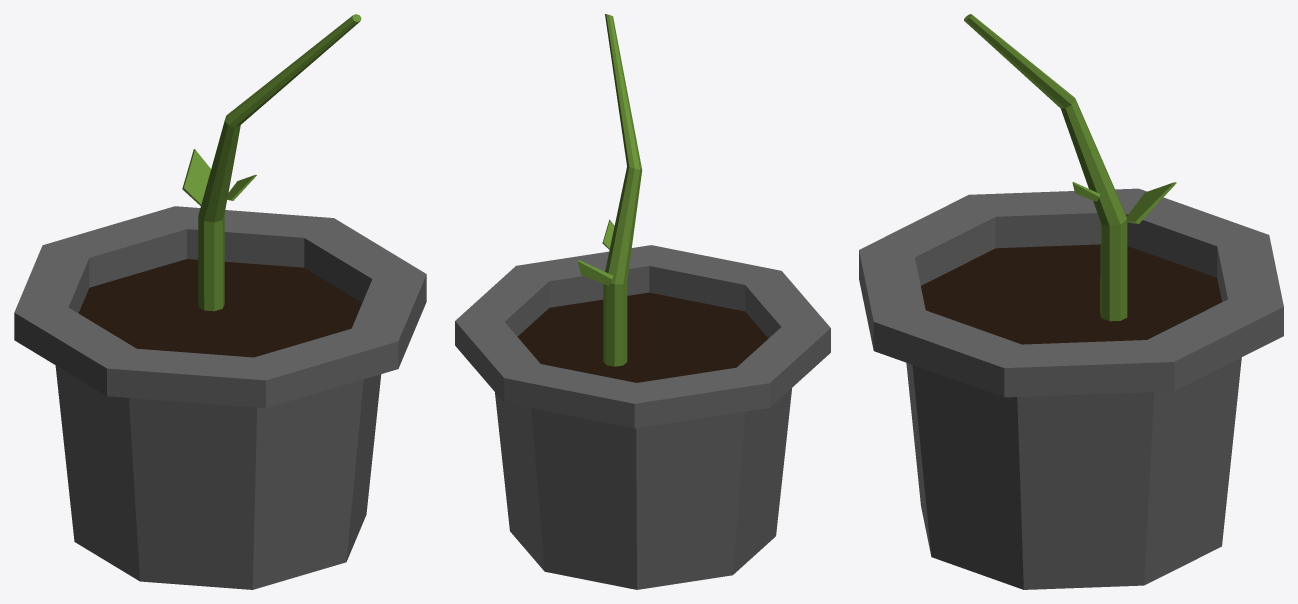
Rendered from plant_interior.glb.
3 views of the same model, side by side, from view 1: azimuth 30°, elevation 25°; view 2: azimuth 150°, elevation 25°; view 3: azimuth 270°, elevation 25° (orthographic). The views are drawn at different scales.
Visible parts, largest first — view 1: plant_interior; view 2: plant_interior; view 3: plant_interior.
Boxes of the visible parts, x1,y1,x2,y2 form: plant_interior: (14, 14, 426, 589); plant_interior: (455, 14, 830, 589); plant_interior: (859, 14, 1283, 589).
Bounding box in the file's own units: 15.21 × 21.98 × 15.21.
1 material, 1 textured.
